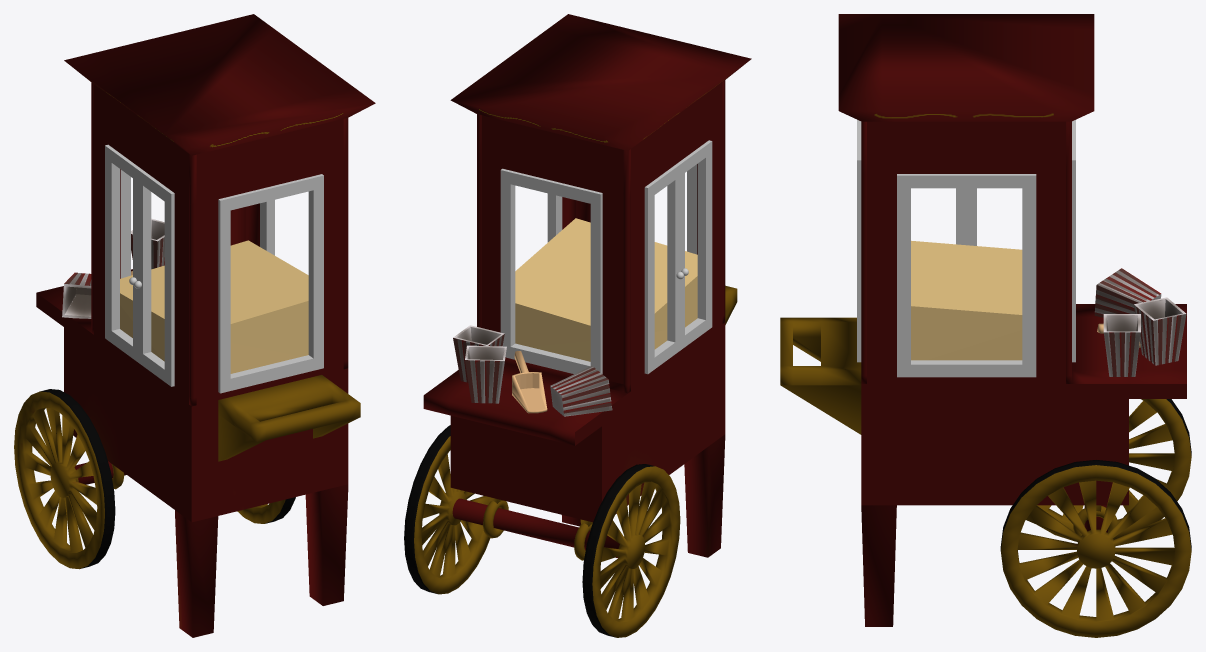
Rendered from popcornkone.fbx.
The picture shows the model from 3 angles, left to right: view 1: azimuth 30°, elevation 25°; view 2: azimuth 150°, elevation 25°; view 3: azimuth 270°, elevation 25°; orthographic projection. The views are drawn at different scales.
Parts seen in each view (by area): view 1: popparikone, ikkunat, popparit, poppari_kuppi.005, poppari_kuppi.003; view 2: popparikone, ikkunat, popparit, poppari_kuppi.005, poppari_kuppi.003, popparikauha, poppari_kuppi; view 3: popparikone, popparit, ikkunat, poppari_kuppi.003, poppari_kuppi, poppari_kuppi.005.
Boxes of the visible parts, left/top/right/bottom form: popparikone: left=14, top=14, right=375, bottom=637; ikkunat: left=105, top=144, right=323, bottom=393; popparit: left=120, top=240, right=308, bottom=373; poppari_kuppi.005: left=62, top=272, right=91, bottom=318; poppari_kuppi.003: left=131, top=218, right=164, bottom=269; popparikone: left=404, top=14, right=751, bottom=637; ikkunat: left=500, top=140, right=712, bottom=374; popparit: left=515, top=218, right=697, bottom=361; poppari_kuppi.005: left=550, top=366, right=612, bottom=416; poppari_kuppi.003: left=465, top=345, right=506, bottom=403; popparikauha: left=512, top=351, right=547, bottom=413; poppari_kuppi: left=453, top=325, right=504, bottom=382; popparikone: left=780, top=14, right=1191, bottom=637; popparit: left=911, top=240, right=1022, bottom=360; ikkunat: left=857, top=119, right=1075, bottom=377; poppari_kuppi.003: left=1134, top=297, right=1186, bottom=365; poppari_kuppi: left=1103, top=314, right=1140, bottom=376; poppari_kuppi.005: left=1094, top=268, right=1161, bottom=317.
Size of the model in its own units: 0.8895 by 2.19 by 1.55.
